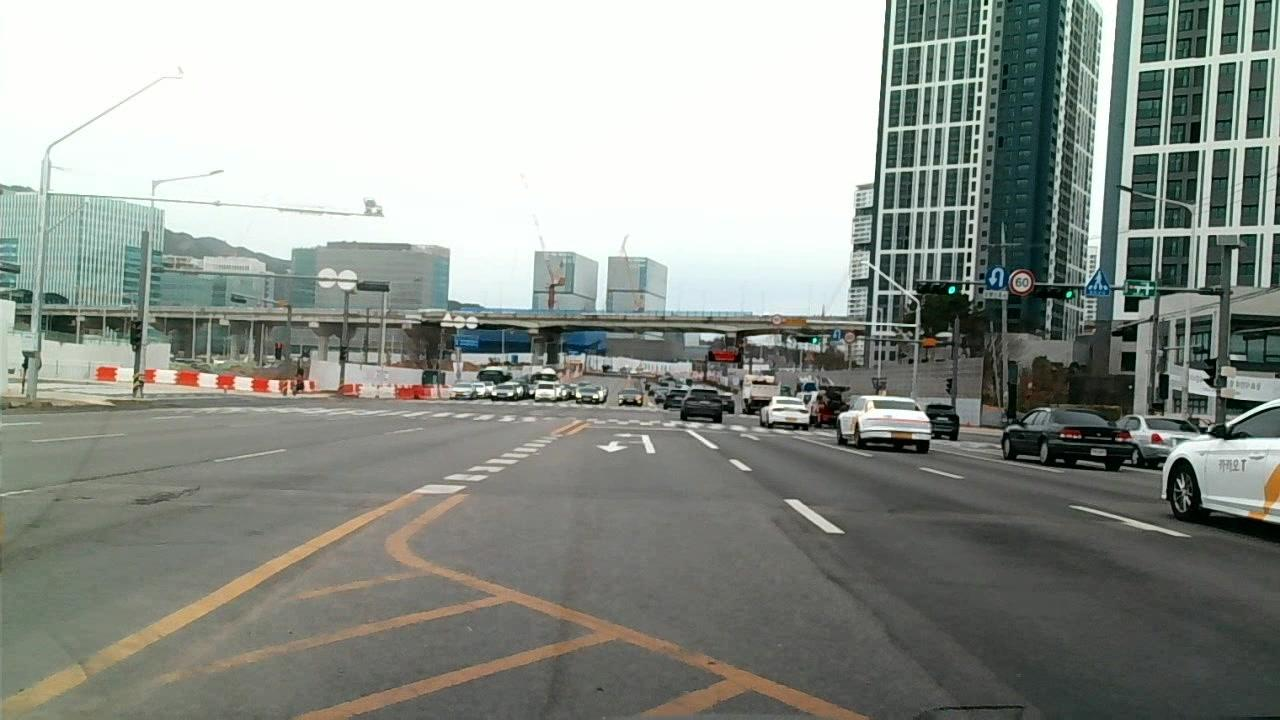vcrack: (833, 581, 954, 706), (46, 457, 216, 489), (769, 512, 826, 579)
